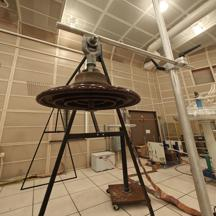insulator: (34, 63, 143, 119)
